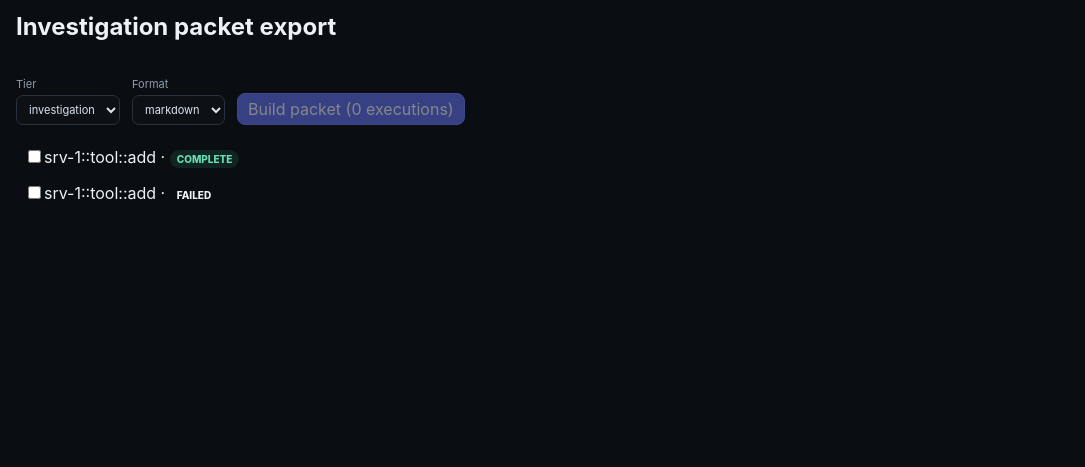
Test case: PacketsPage — R-UX slice UX-8 (will-include preview) › shows the preview panel after selecting an execution, marks tier-excluded categories
Click the checkbox labelled "srv-1::tool::add · complete" at (34,156), box [28,150,41,163]
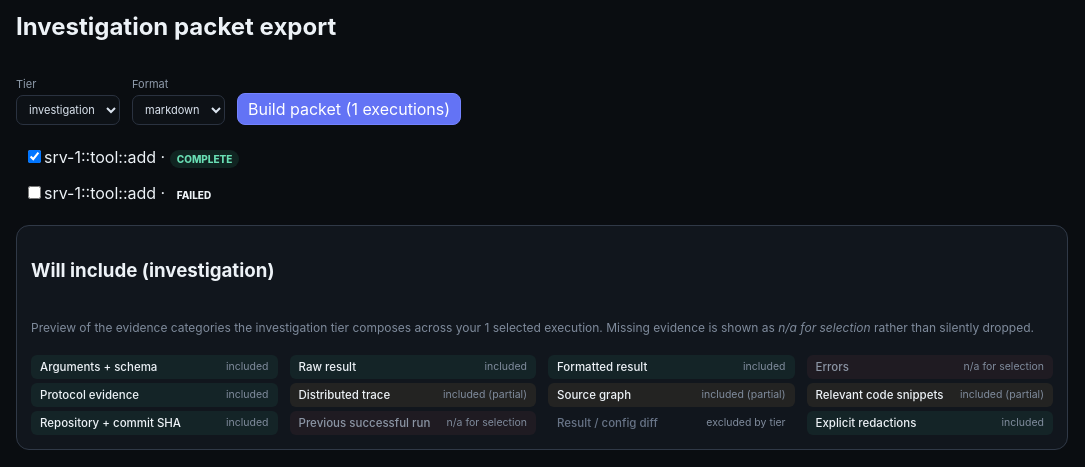
Expected: the element with test id "packet-will-include" is shown, [16,225,1068,450]
Expected: the list item with test id "packet-cat-diffs" shows "excluded by tier", [706,416,786,429]
